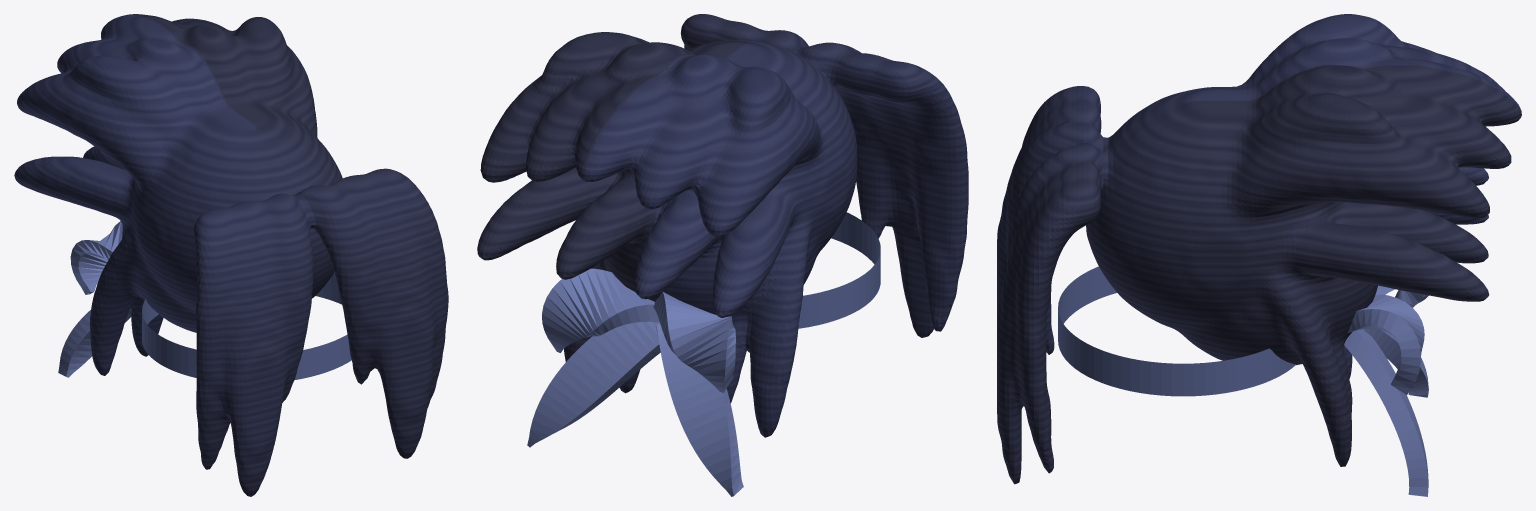
Rendered from hair-volume-v6.glb.
3 renders of one model, left to right at view 1: azimuth 30°, elevation 25°; view 2: azimuth 150°, elevation 25°; view 3: azimuth 270°, elevation 25°, orthographic. The views are drawn at different scales.
Parts seen in each view (by area): view 1: Unified Sculpted Hair, Single Indigo Wrap, Tied Navy Bow; view 2: Unified Sculpted Hair, Tied Navy Bow, Single Indigo Wrap; view 3: Unified Sculpted Hair, Single Indigo Wrap, Tied Navy Bow.
Boxes of the visible parts, x1,y1,x2,y2 form: Unified Sculpted Hair: (14, 14, 448, 496); Single Indigo Wrap: (142, 273, 351, 380); Tied Navy Bow: (58, 221, 131, 377); Unified Sculpted Hair: (477, 14, 968, 437); Tied Navy Bow: (527, 268, 743, 496); Single Indigo Wrap: (798, 212, 880, 328); Unified Sculpted Hair: (997, 14, 1521, 484); Single Indigo Wrap: (1058, 266, 1295, 396); Tied Navy Bow: (1344, 285, 1428, 496).
Bounding box in the file's own units: 0.2744 × 0.3589 × 0.4355.
3 materials, 1 textured.
